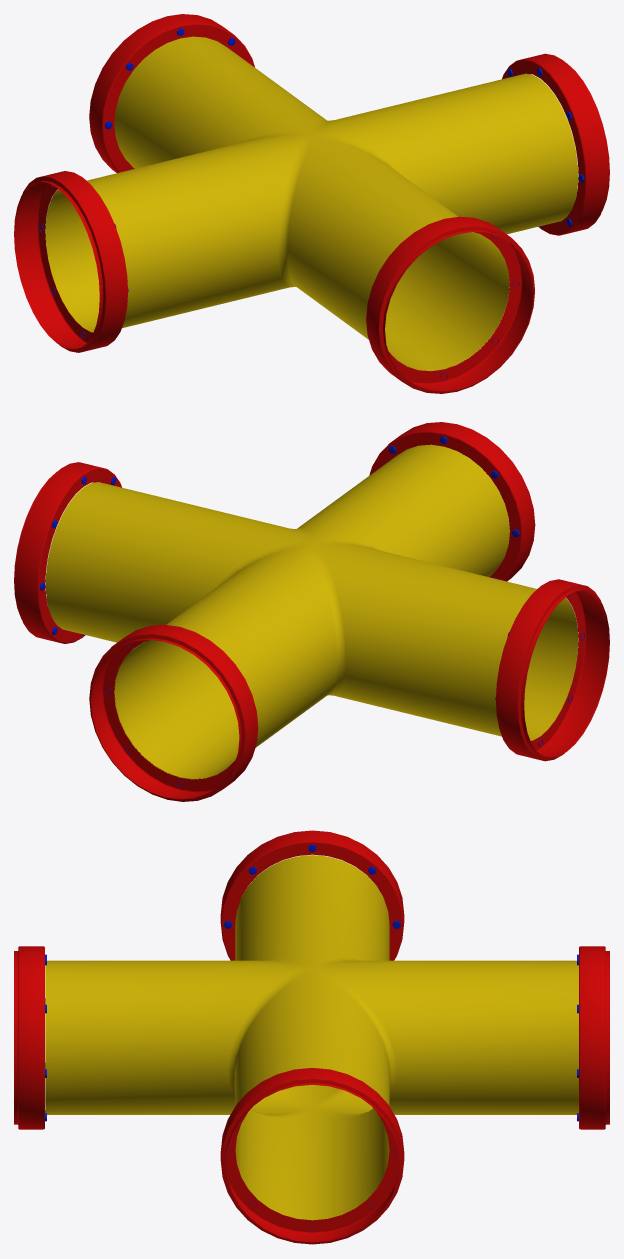
The model's file is sub_+Pipe.fbx.
The picture shows the model from 3 angles, top to bottom: view 1: azimuth 30°, elevation 25°; view 2: azimuth 150°, elevation 25°; view 3: azimuth 270°, elevation 25°; orthographic projection.
Parts seen in each view (by area): view 1: sub_CurvePipe006; view 2: sub_CurvePipe006; view 3: sub_CurvePipe006.
Part boxes in pixels (bbox=[...]): sub_CurvePipe006: bbox=[14, 14, 609, 393]; sub_CurvePipe006: bbox=[14, 422, 609, 801]; sub_CurvePipe006: bbox=[14, 830, 609, 1244].
Size of the model in its own units: 165 by 50.7 by 164.
